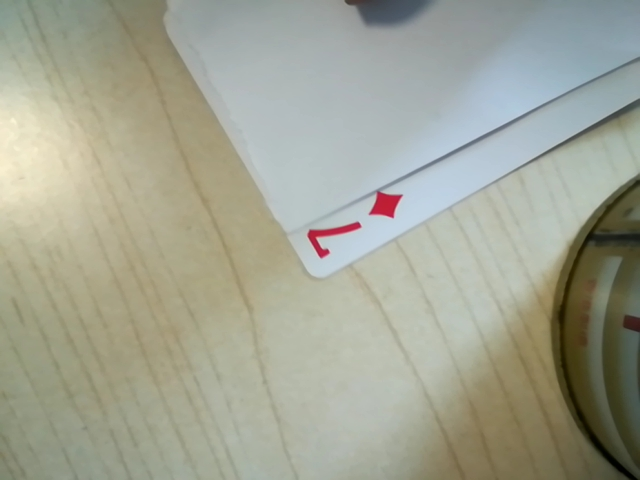fk 7: (298, 189, 408, 262)
